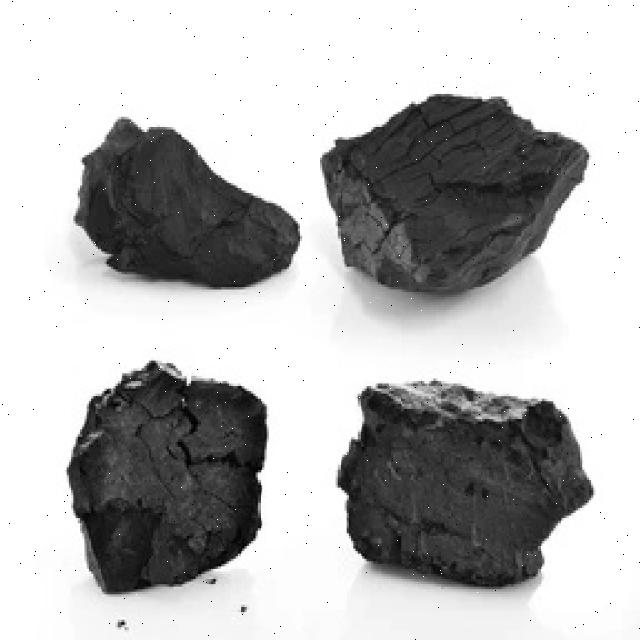Sedimentary: (320, 86, 593, 300), (336, 368, 602, 579), (75, 361, 274, 622), (58, 99, 306, 297)
